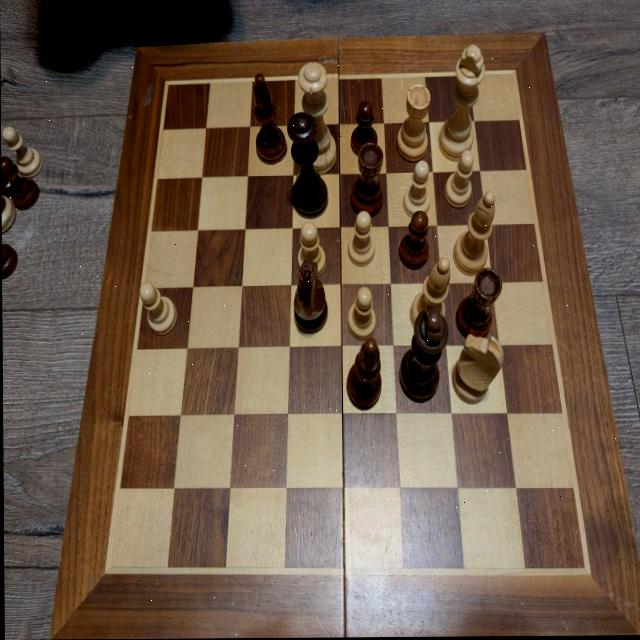black_bishop: (253, 75, 287, 163), (345, 338, 381, 409)
black_king: (398, 306, 445, 399)
black_knight: (293, 262, 327, 332)
black_pawn: (398, 210, 431, 270), (350, 101, 380, 162)
black_queen: (286, 111, 330, 219)
black_rook: (455, 269, 501, 339), (350, 143, 384, 217)
white_bishop: (410, 255, 452, 340), (453, 191, 495, 275)
white_king: (439, 44, 484, 158)
white_knight: (451, 330, 505, 406)
white_pawn: (140, 280, 176, 336), (444, 149, 474, 209), (401, 160, 430, 220), (297, 221, 325, 276), (347, 213, 375, 266), (347, 293, 375, 341)
white_queen: (297, 61, 336, 170)
white_rook: (395, 83, 430, 162)
